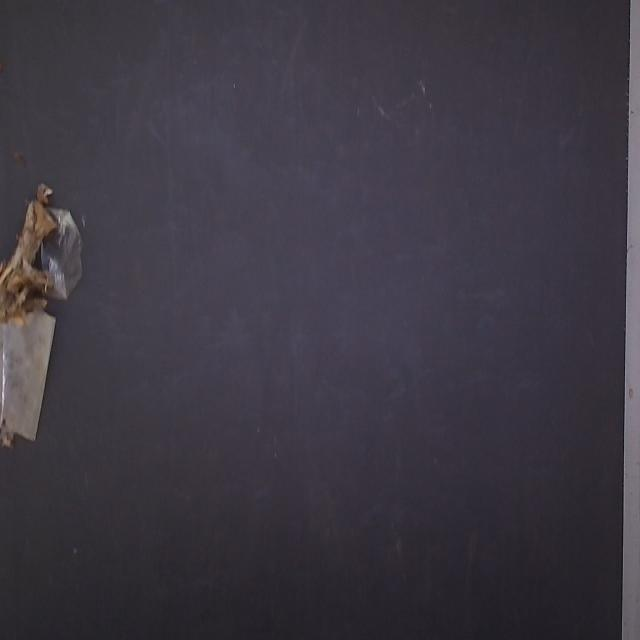plastic_films: (0, 200, 116, 440)
